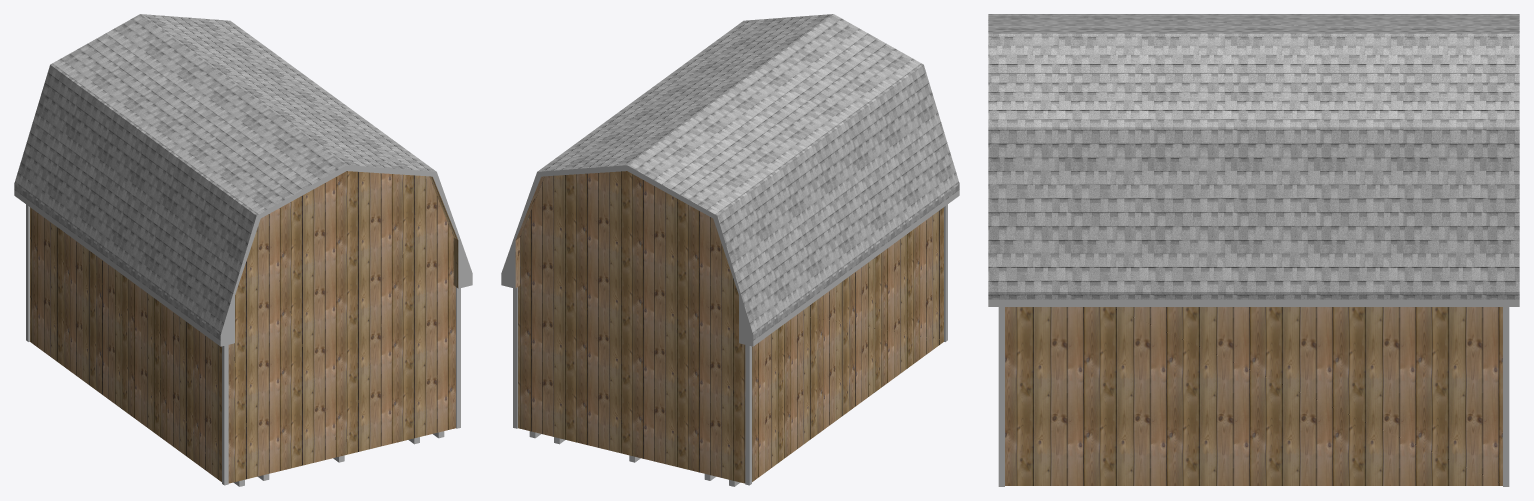
The model's file is Two Story Gambrel_14x20.obj.
3 views of the same model, side by side, from view 1: azimuth 30°, elevation 25°; view 2: azimuth 150°, elevation 25°; view 3: azimuth 270°, elevation 25° (orthographic). The views are drawn at different scales.
Parts seen in each view (by area): view 1: Shed, Roof, Sides, Trim; view 2: Shed, Roof, Sides, Trim; view 3: Roof, Shed, Sides, Trim.
Part boxes in pixels (left/top/right/bottom): Shed: left=30, top=171, right=458, bottom=483; Roof: left=14, top=14, right=436, bottom=340; Sides: left=14, top=165, right=472, bottom=346; Trim: left=26, top=204, right=460, bottom=485; Shed: left=515, top=171, right=943, bottom=483; Roof: left=537, top=14, right=959, bottom=340; Sides: left=501, top=165, right=959, bottom=346; Trim: left=513, top=204, right=947, bottom=485; Roof: left=988, top=14, right=1519, bottom=299; Shed: left=1005, top=307, right=1502, bottom=485; Sides: left=988, top=299, right=1519, bottom=306; Trim: left=998, top=307, right=1509, bottom=486.
Bounding box in the file's own units: 4.51 × 5.14 × 6.4.
